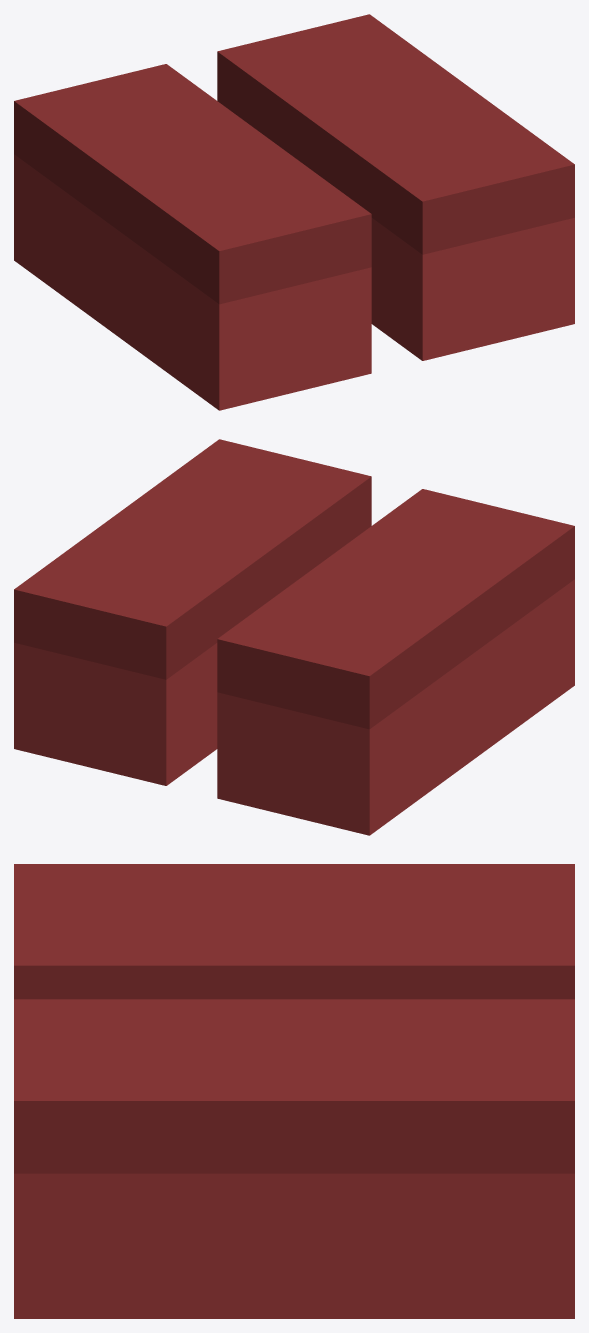
The model's file is legendario_manos_orco_01.glb.
The picture shows the model from 3 angles, top to bottom: view 1: azimuth 30°, elevation 25°; view 2: azimuth 150°, elevation 25°; view 3: azimuth 270°, elevation 25°; orthographic projection. The views are drawn at different scales.
Parts seen in each view (by area): view 1: legendario_manos_orco; view 2: legendario_manos_orco; view 3: legendario_manos_orco.
Part boxes in pixels (box(x1,y1,x2,y2)): legendario_manos_orco: box(14, 14, 574, 410); legendario_manos_orco: box(14, 439, 574, 835); legendario_manos_orco: box(14, 864, 574, 1318).
Bounding box in the file's own units: 0.5833 × 0.25 × 0.5833.
